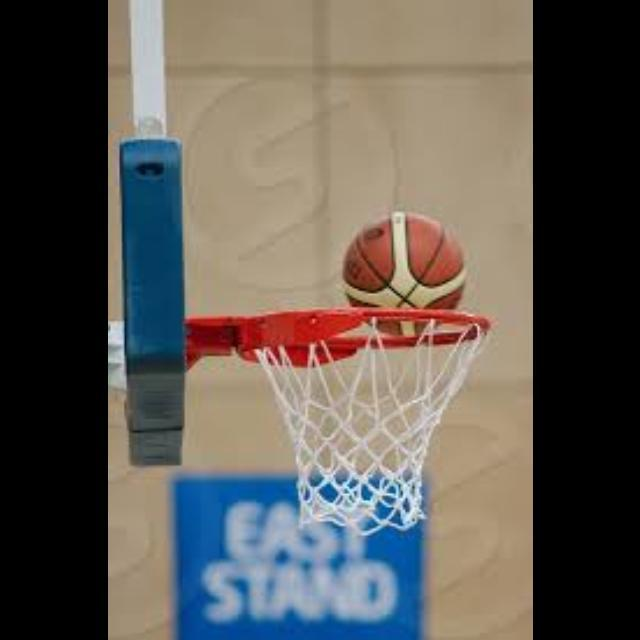basketball: (342, 213, 463, 337)
rim: (247, 308, 491, 530)
